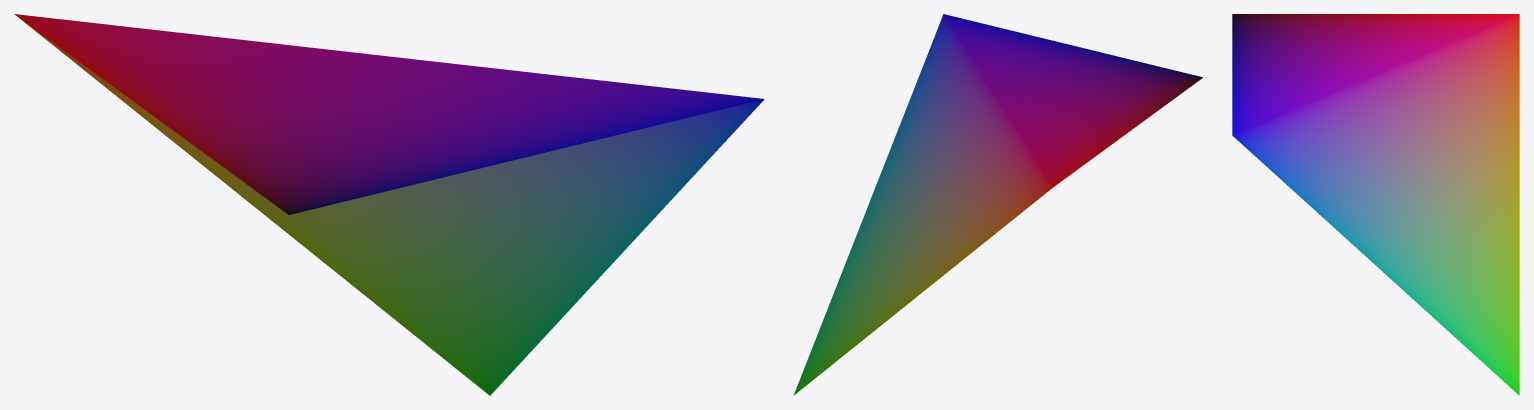
The model's file is PositionSystemToExternalProgramEncoder-Mesh.fbx.
The picture shows the model from 3 angles, left to right: view 1: azimuth 30°, elevation 25°; view 2: azimuth 150°, elevation 25°; view 3: azimuth 270°, elevation 25°; orthographic projection. The views are drawn at different scales.
Visible parts, largest first — view 1: Cube; view 2: Cube; view 3: Cube.
Part boxes in pixels (x1,y1,x2,y2): Cube: (14,14,764,395); Cube: (793,14,1202,395); Cube: (1232,14,1519,395).
Size of the model in its own units: 8 by 8 by 8.
